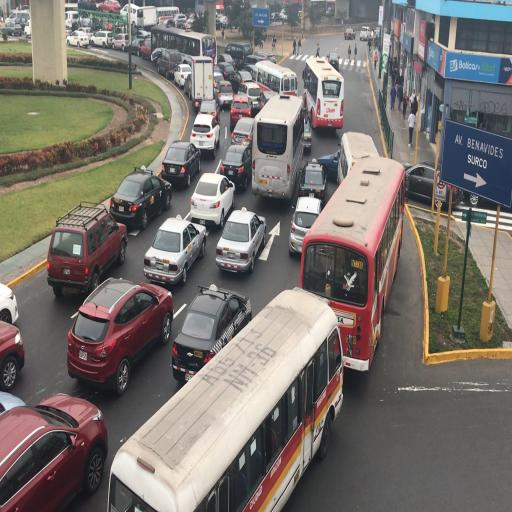auto: (1, 394, 106, 512), (67, 279, 172, 393), (170, 282, 252, 382), (46, 204, 126, 298), (143, 216, 208, 287), (110, 165, 171, 230), (215, 208, 266, 275), (404, 161, 469, 211), (190, 171, 234, 229), (288, 194, 324, 254), (161, 140, 201, 189), (0, 317, 25, 391), (219, 142, 252, 193), (189, 110, 220, 157), (298, 160, 327, 204), (184, 68, 216, 101), (230, 116, 256, 154), (230, 92, 256, 128), (156, 47, 183, 79), (0, 279, 18, 326), (196, 97, 220, 127), (214, 79, 234, 108), (215, 53, 236, 79), (232, 69, 254, 91), (4, 12, 24, 36), (242, 54, 267, 73), (174, 62, 192, 88), (66, 30, 89, 48), (110, 32, 130, 51), (90, 30, 111, 48), (150, 46, 168, 66), (241, 63, 259, 83), (139, 36, 154, 59), (184, 12, 203, 30), (178, 52, 197, 69), (253, 51, 276, 65), (97, 0, 120, 13), (77, 26, 95, 42), (184, 73, 194, 100), (78, 11, 92, 29), (327, 51, 340, 70), (212, 64, 224, 82), (132, 26, 149, 38), (216, 14, 230, 27), (360, 26, 371, 41), (344, 26, 354, 39)
moto: (108, 291, 326, 506), (302, 146, 400, 364), (250, 92, 301, 200), (302, 55, 342, 130), (337, 130, 378, 190), (249, 58, 294, 100), (223, 42, 253, 70), (133, 5, 157, 29), (155, 5, 180, 26), (64, 4, 80, 31)
